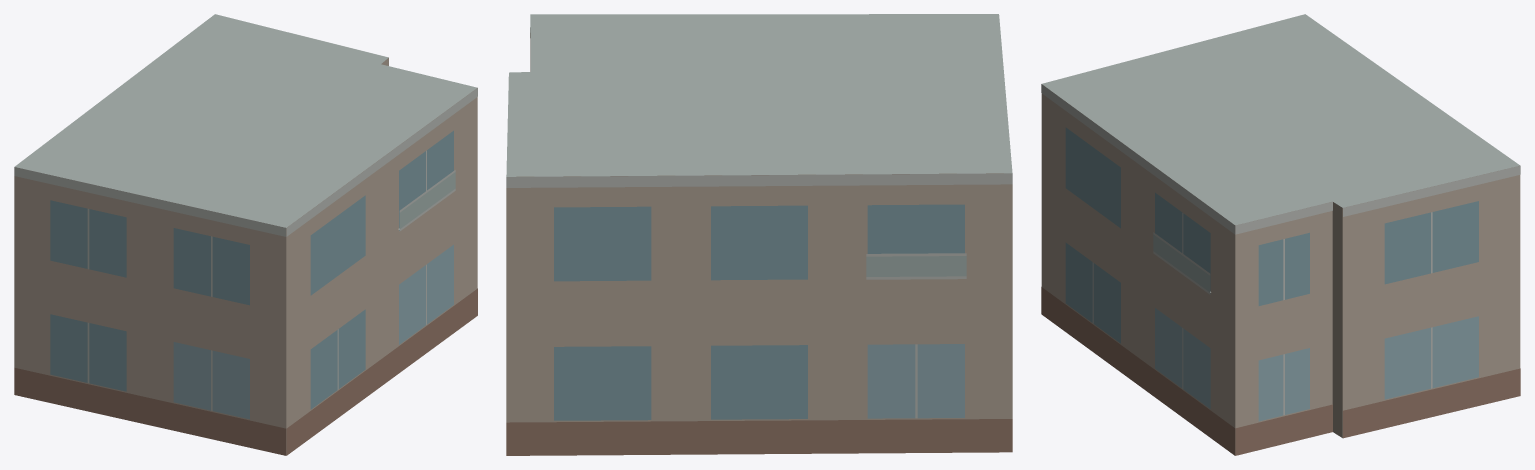
File: survey-upis-32594366.glb
3 renders of one model, left to right at view 1: azimuth 30°, elevation 25°; view 2: azimuth 150°, elevation 25°; view 3: azimuth 270°, elevation 25°, orthographic. The views are drawn at different scales.
Visible parts, largest first — view 1: survey-upis-32594366.tmp; view 2: survey-upis-32594366.tmp; view 3: survey-upis-32594366.tmp.
Boxes of the visible parts, x1,y1,x2,y2 form: survey-upis-32594366.tmp: (14, 14, 477, 455); survey-upis-32594366.tmp: (506, 14, 1012, 455); survey-upis-32594366.tmp: (1041, 14, 1520, 455).
Bounding box in the file's own units: 12.01 × 6.1 × 11.5.
